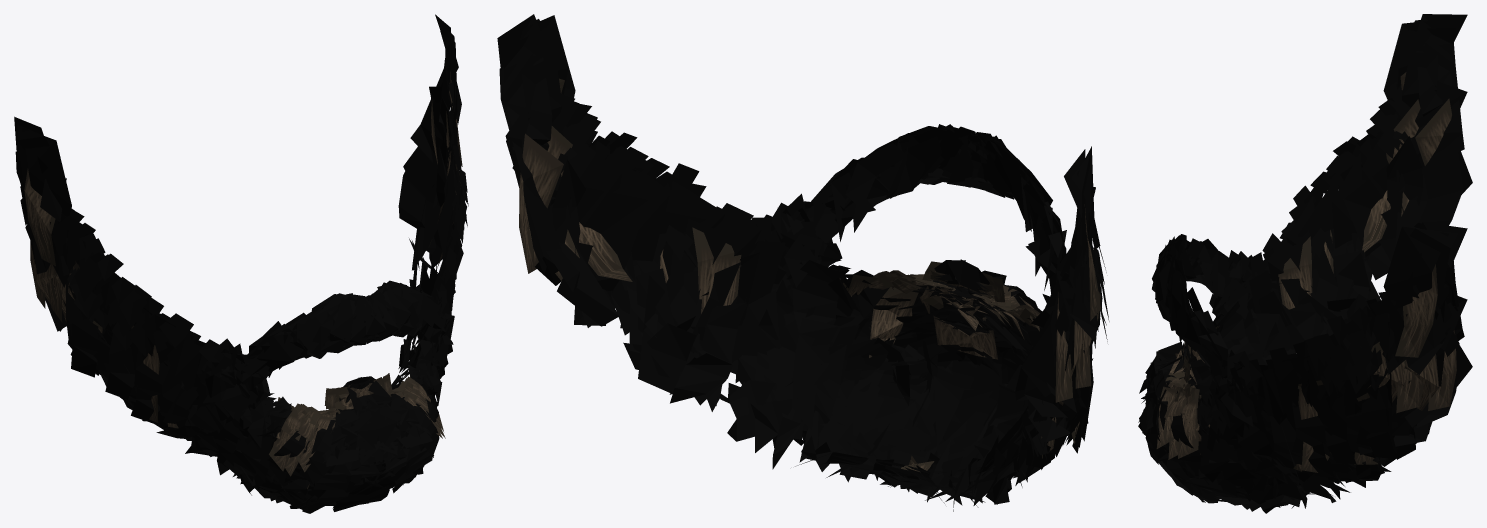
The model's file is BEARD.fbx.
3 renders of one model, left to right at view 1: azimuth 30°, elevation 25°; view 2: azimuth 150°, elevation 25°; view 3: azimuth 270°, elevation 25°, orthographic. The views are drawn at different scales.
Visible parts, largest first — view 1: beard; view 2: beard; view 3: beard.
Boxes of the visible parts, x1,y1,x2,y2 form: beard: (14,14,468,513); beard: (497,14,1109,511); beard: (1138,14,1472,513).
Bounding box in the file's own units: 14.23 × 11.19 × 9.19.
